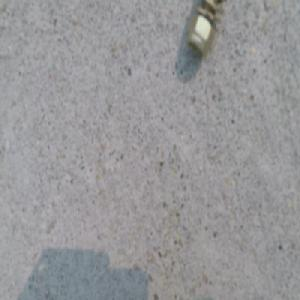BoltNutSet: (188, 0, 219, 56)
